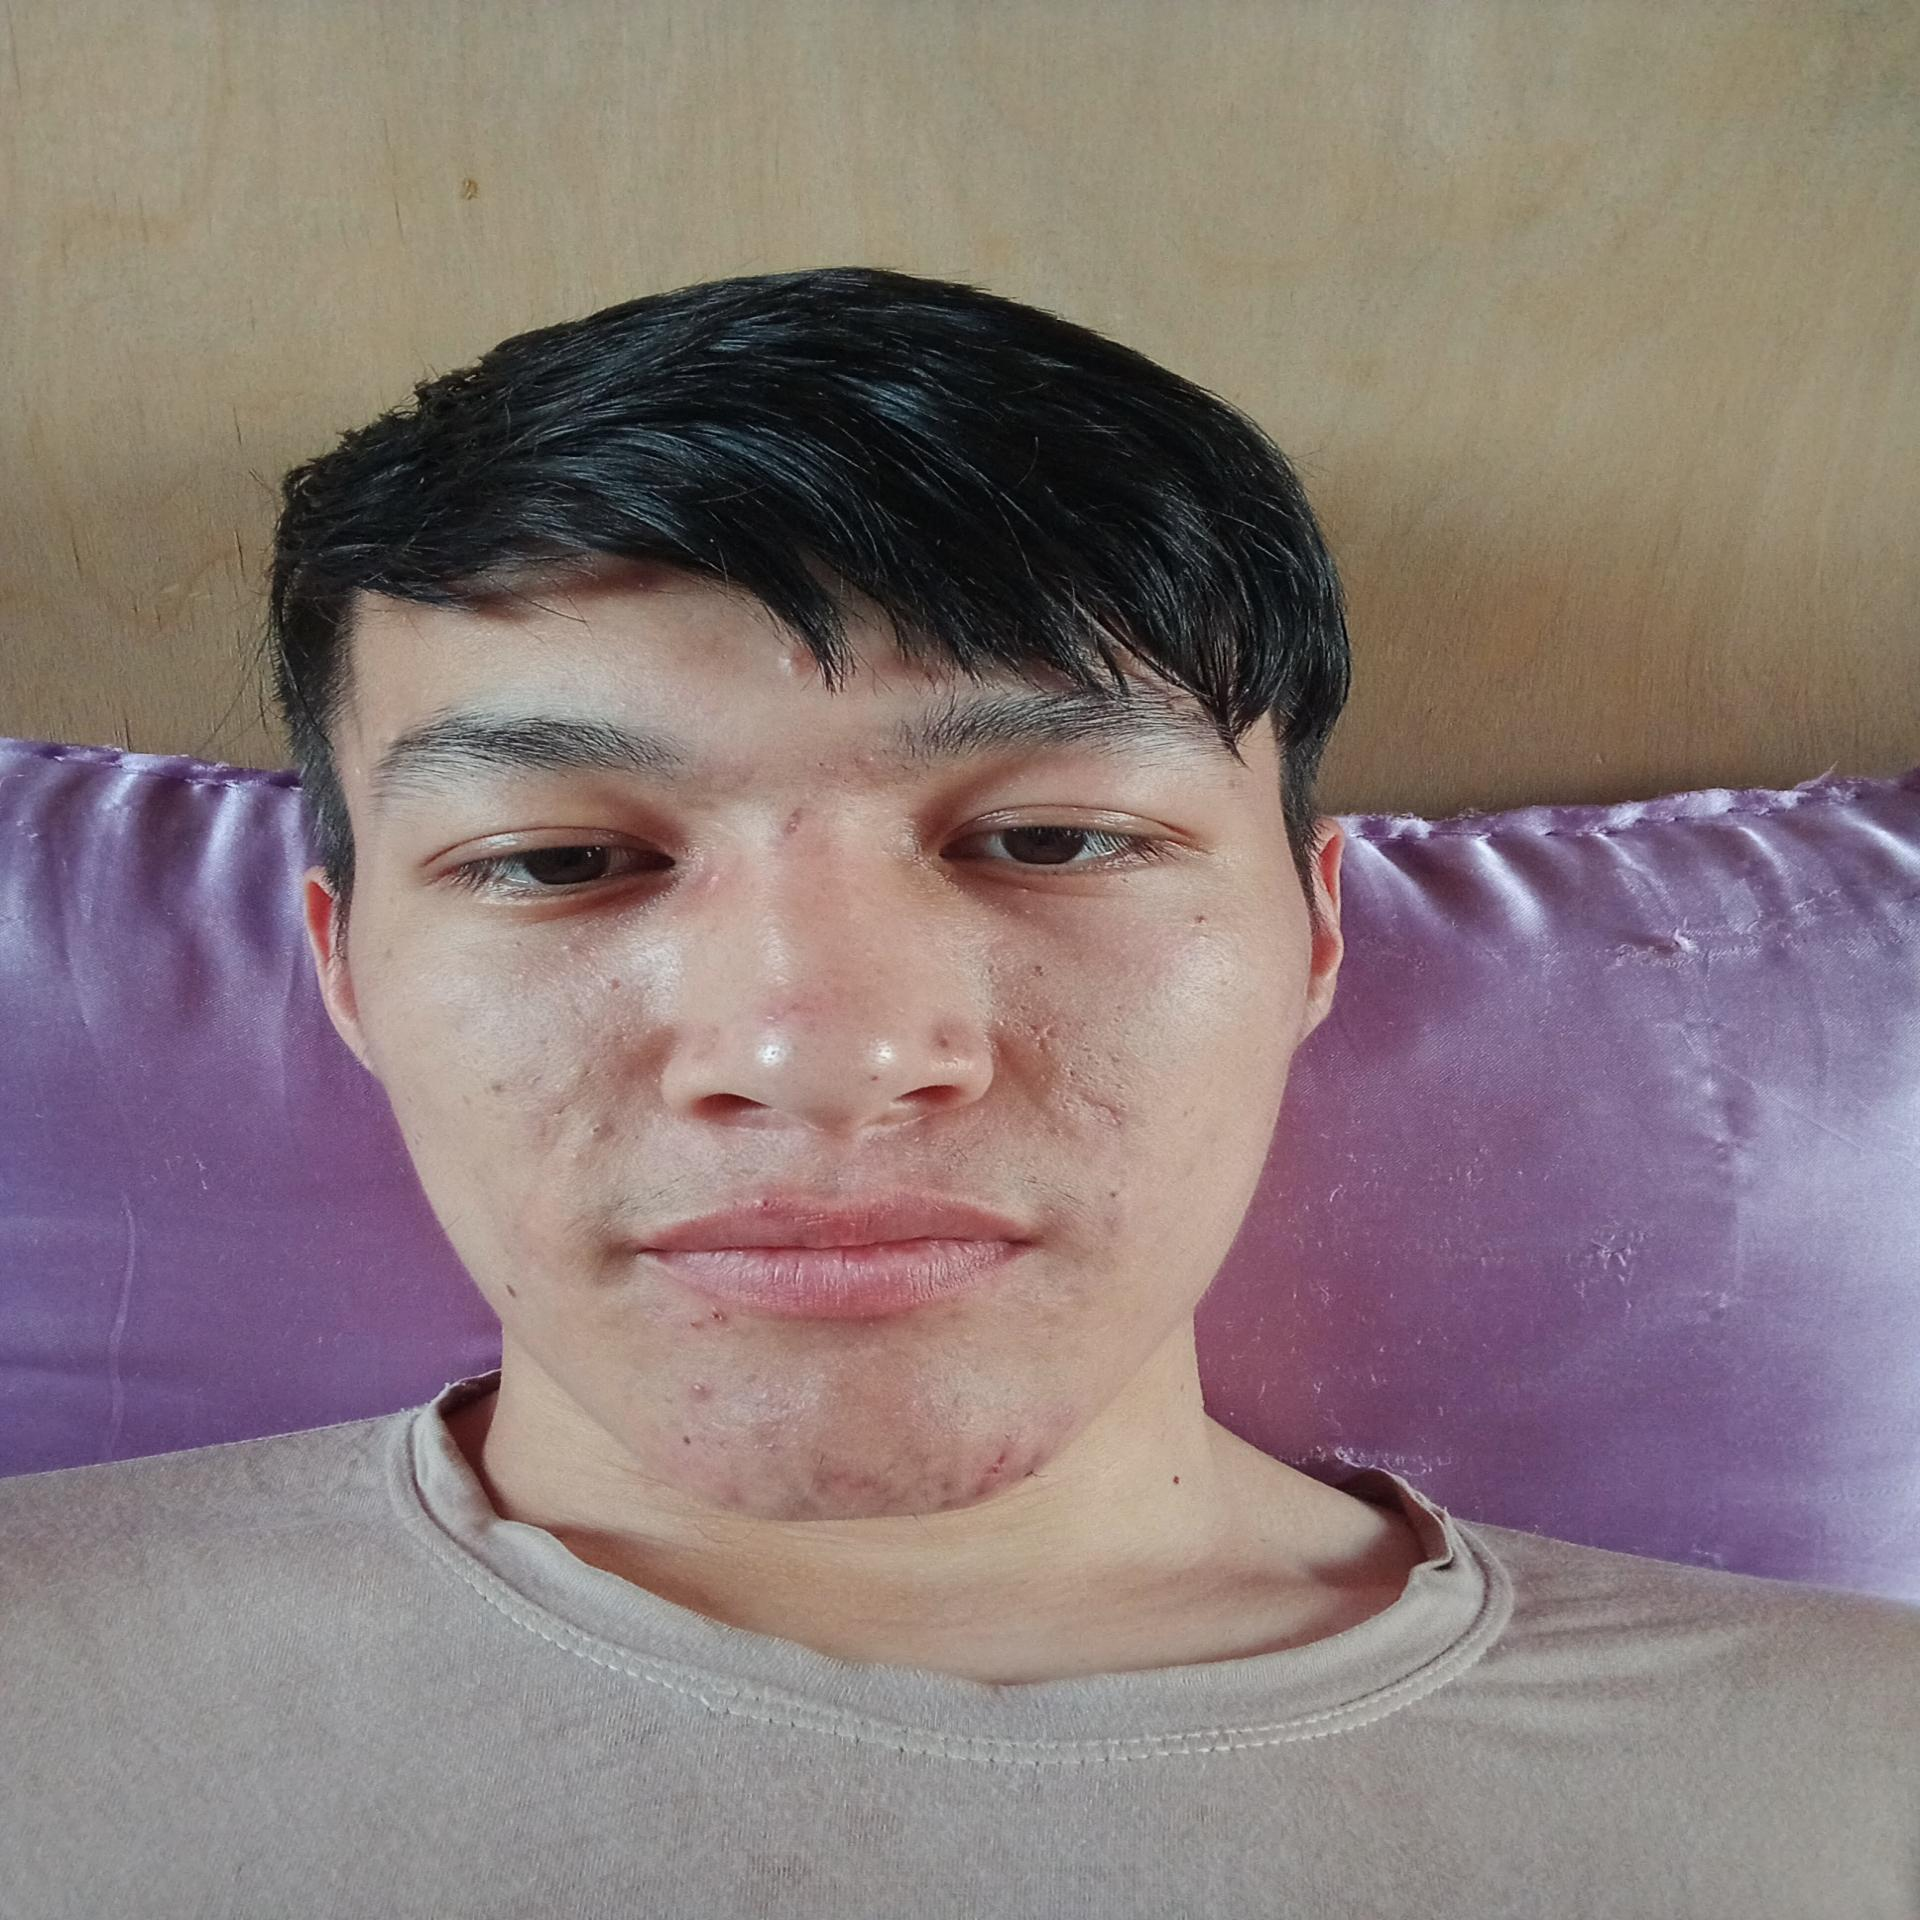Acne: (798, 1461, 930, 1505), (953, 1444, 1043, 1503), (740, 1394, 788, 1452), (677, 1298, 731, 1335), (703, 1475, 751, 1516), (770, 638, 819, 675), (775, 796, 811, 842), (742, 1192, 789, 1215), (593, 971, 628, 999), (582, 1118, 619, 1145), (927, 1029, 956, 1058), (482, 1074, 513, 1102), (684, 1373, 714, 1401)
Englarged Pores: (985, 979, 1152, 1139), (527, 1025, 649, 1124), (761, 978, 839, 1029)
Wrinkles: (513, 1120, 563, 1233)
